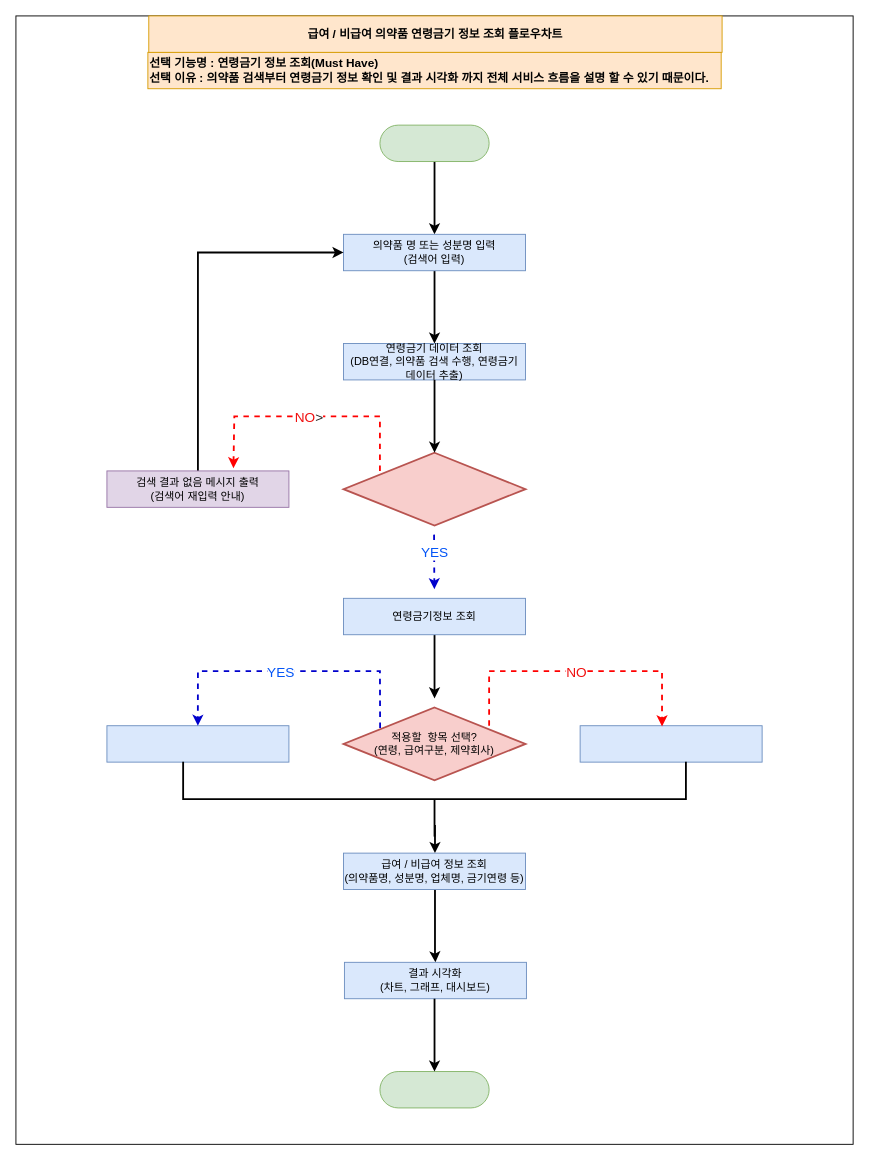
Some shapes in this 869 by 1160 pixel diagram are drawn without their labels. Here are the shapes that lost their labels. From the top down, the centre of each, then its label:
At pixel 434 143: "시 작".
At pixel 434 488: "검색 결과 존재? (응답이 200 OK?)".
At pixel 197 743: "필터 조건 적용".
At pixel 670 743: "전체 데이터 유지".
At pixel 434 1089: "종료".
